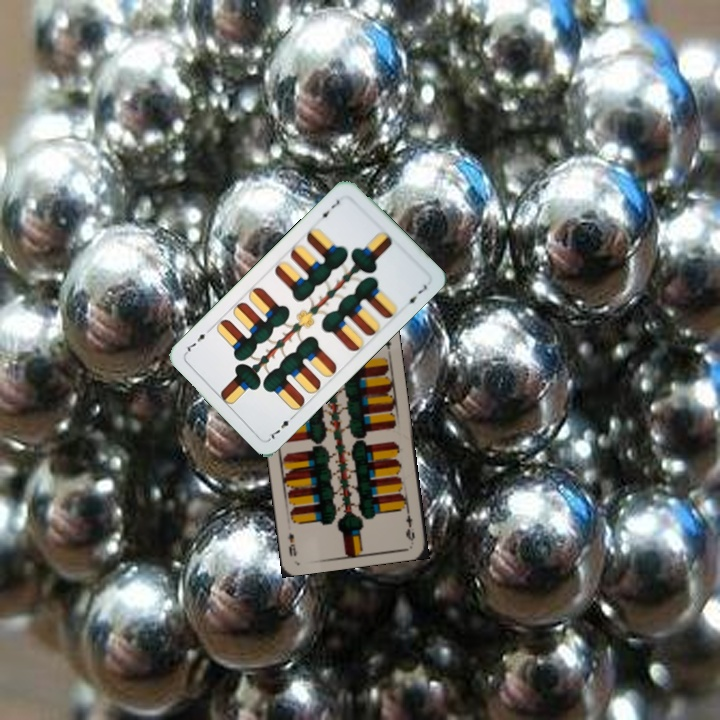E7: (265, 410, 298, 442), (314, 196, 343, 223)
E9: (401, 503, 417, 543)
